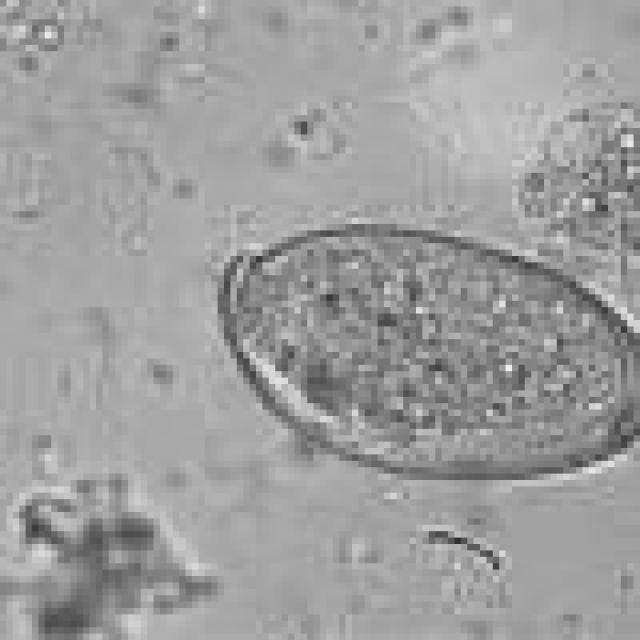Fasciola Hepatica: (211, 218, 634, 487)
